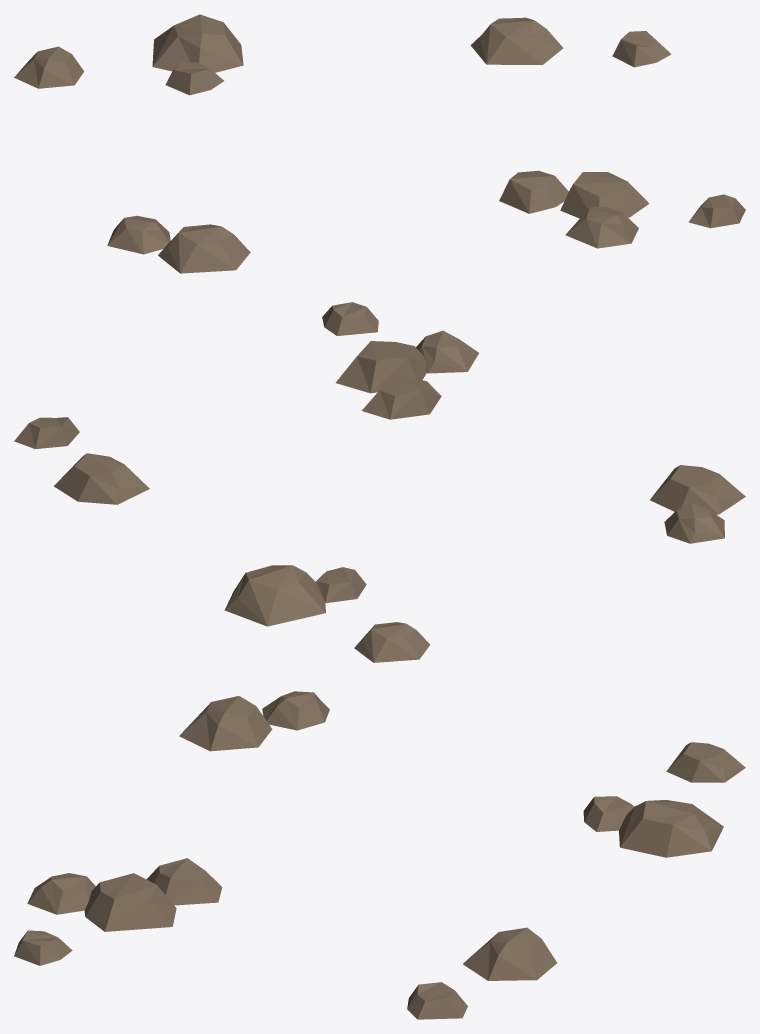
Rendered from SM_Generic_Small_Rocks_02.glb.
3 views of the same model, one above another, from view 1: azimuth 30°, elevation 25°; view 2: azimuth 150°, elevation 25°; view 3: azimuth 270°, elevation 25° (orthographic). The views are drawn at different scales.
Visible parts, largest first — view 1: SM_Generic_Small_Rocks_02; view 2: SM_Generic_Small_Rocks_02; view 3: SM_Generic_Small_Rocks_02.
Part boxes in pixels (left/top/right/bottom): SM_Generic_Small_Rocks_02: left=14, top=14, right=745, bottom=273; SM_Generic_Small_Rocks_02: left=14, top=302, right=745, bottom=662; SM_Generic_Small_Rocks_02: left=14, top=691, right=745, bottom=1019.
Bounding box in the file's own units: 2.04 × 0.095 × 1.97.
Materials: 1 (1 with a texture image).
